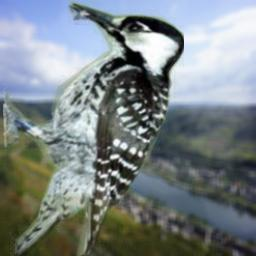Woodpecker: (3, 0, 184, 256)
